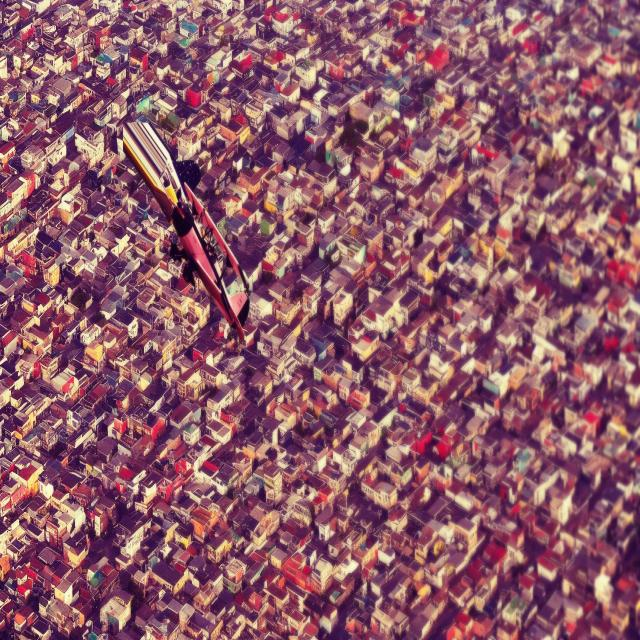airplane: (121, 114, 251, 346)
